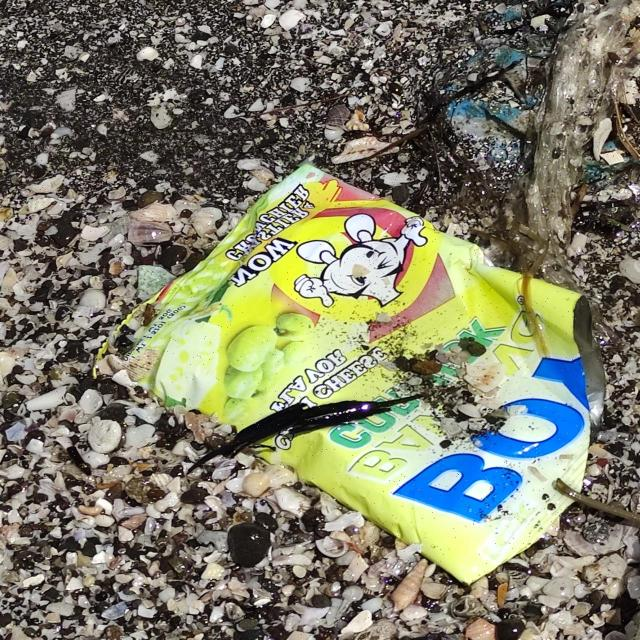plastic_waste: (91, 162, 610, 591)
